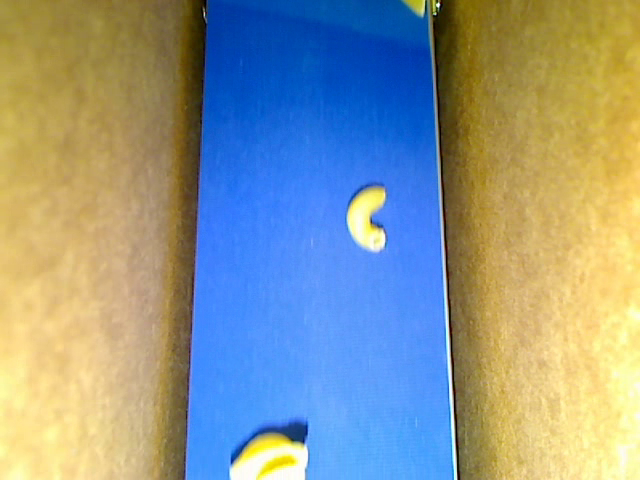elbow: (345, 184, 387, 251)
tortellini: (229, 432, 309, 479)
